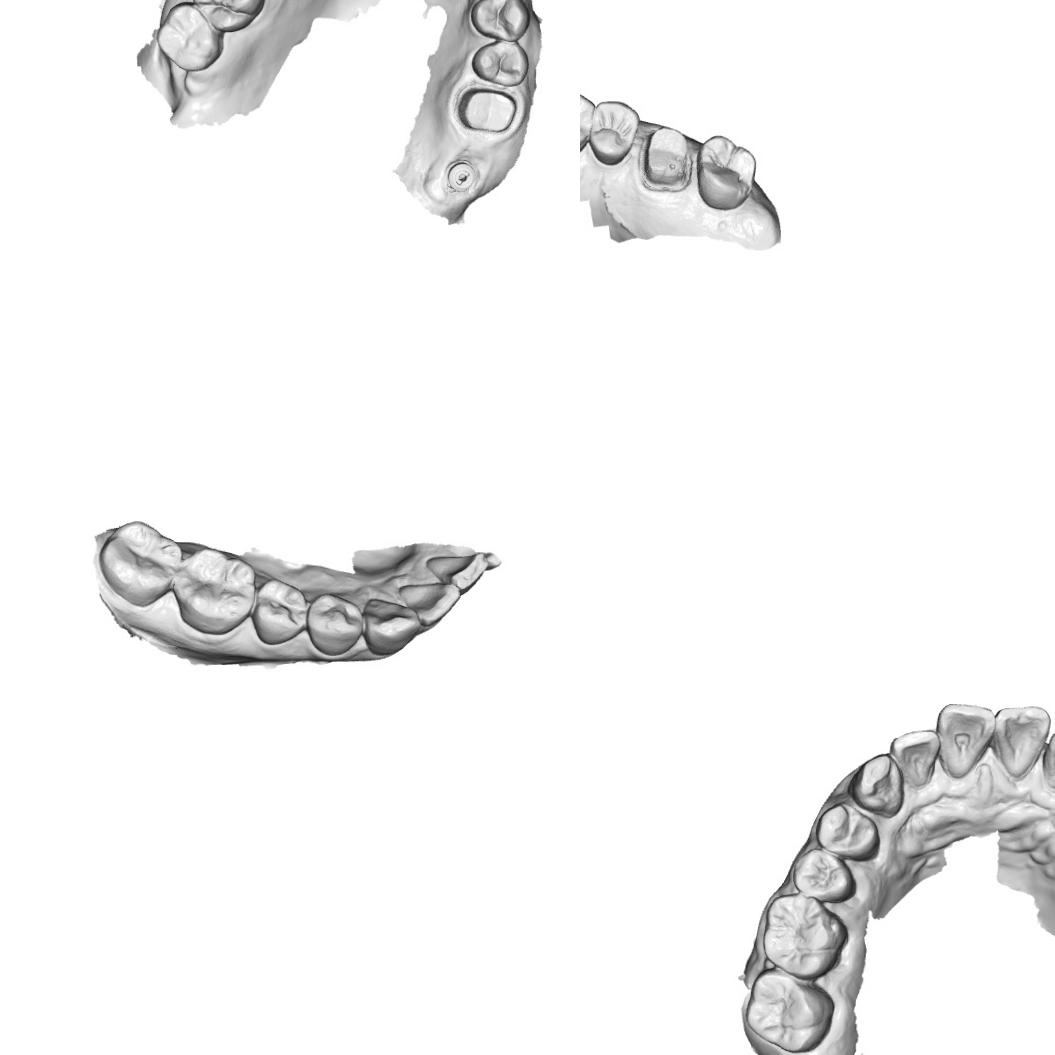canine: (850, 752, 906, 818), (362, 596, 418, 656)
crown: (454, 84, 520, 136), (641, 125, 691, 190)
implant_minus: (445, 158, 481, 196)
incisor: (936, 702, 994, 782), (992, 705, 1050, 782), (889, 729, 941, 790), (422, 551, 490, 593), (399, 579, 459, 626), (1041, 728, 1055, 793)
molar: (758, 892, 850, 981), (96, 519, 185, 609), (172, 546, 260, 636), (744, 969, 836, 1055), (154, 0, 224, 73), (694, 132, 757, 212), (188, 0, 268, 34)
premolar: (302, 591, 368, 656), (813, 801, 879, 861), (791, 848, 857, 906), (587, 99, 641, 167), (250, 578, 304, 644), (470, 36, 530, 88), (468, 0, 532, 42), (580, 88, 596, 160)
